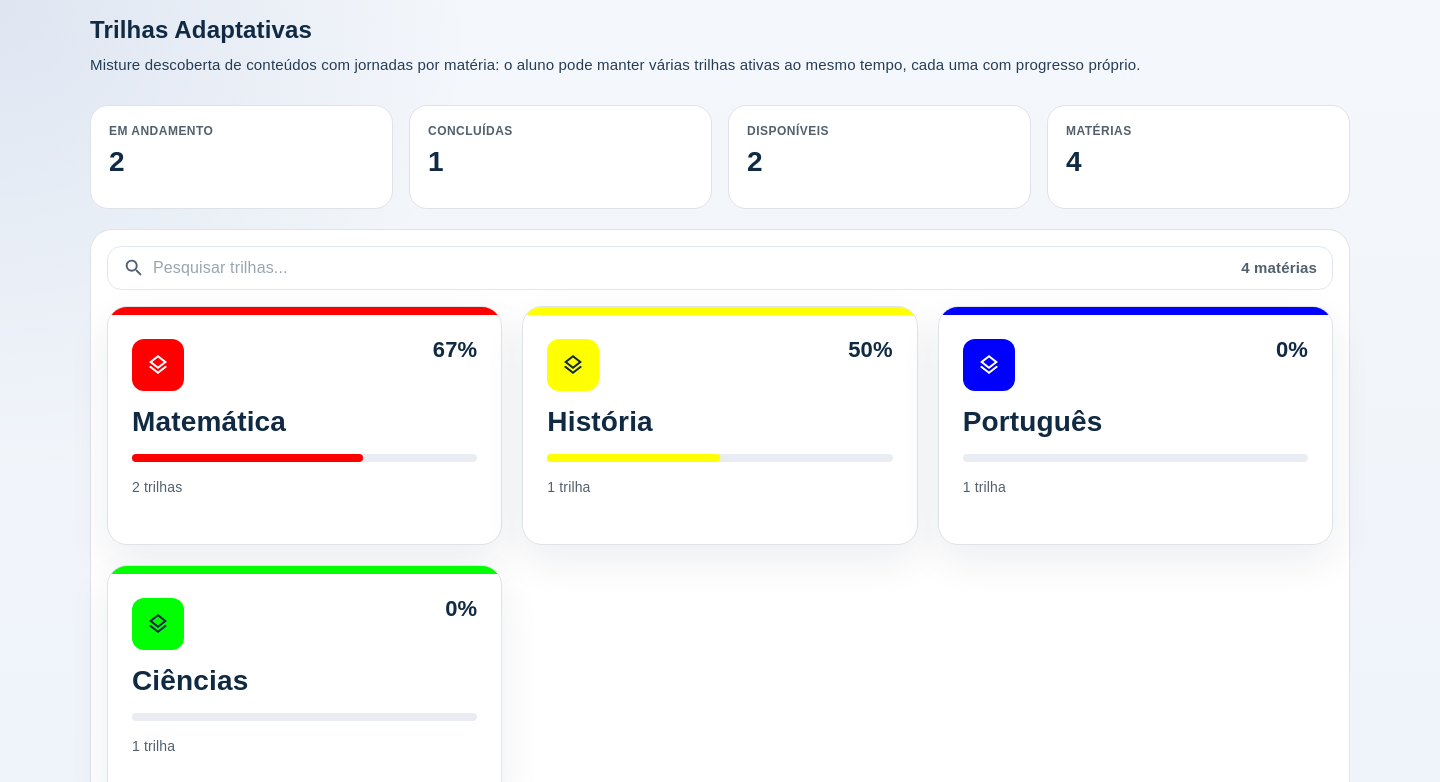
Test: StudentAdaptiveTrailPage shows empty state when no trails match search
Expected: the text "Matemática" is shown, [132,406,286,437]
Type "xyzabc" into the search field with placeholder "Pesquisar trilhas...". click: x=693, y=268
box: [153,251,1233,284]
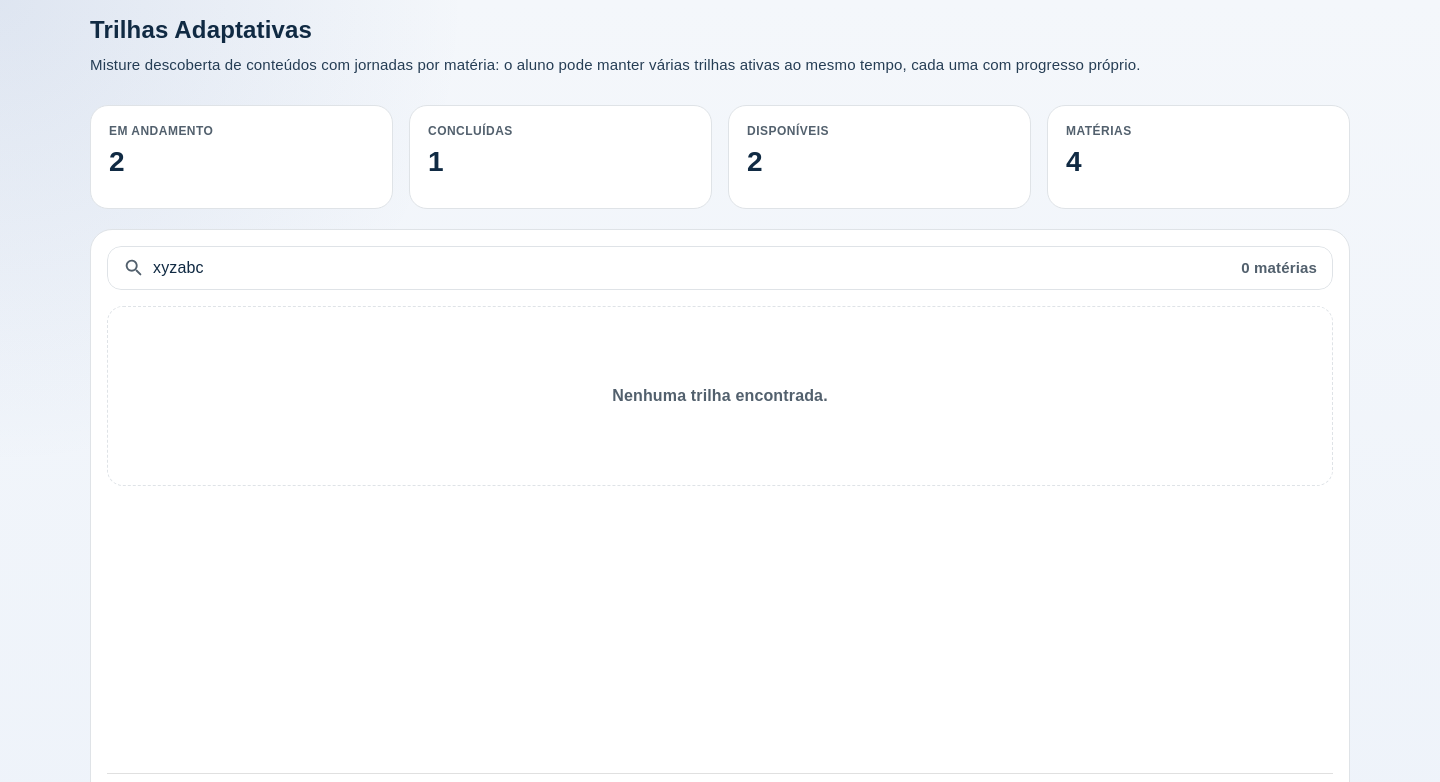
Expected: the text "Nenhuma trilha encontrada." is shown, [612,383,828,409]
Expected: the text "0 matérias" is shown, [1241,256,1317,280]
